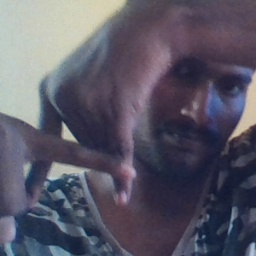H: (14, 78, 150, 214)
